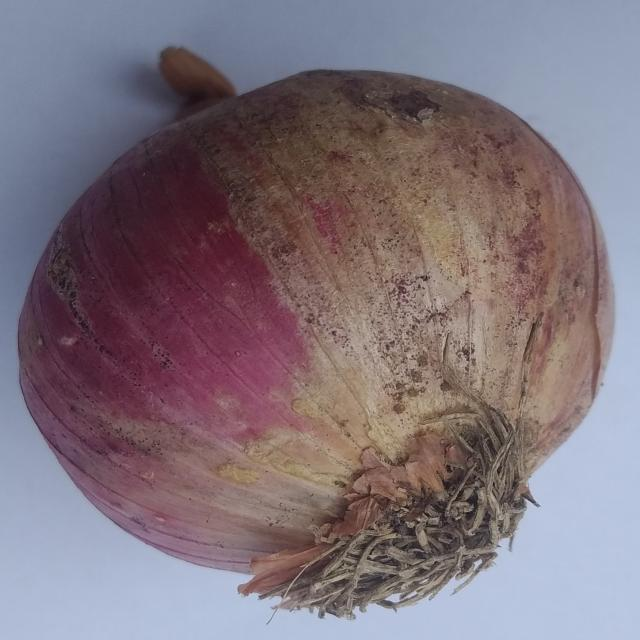onion: (17, 44, 618, 624)
